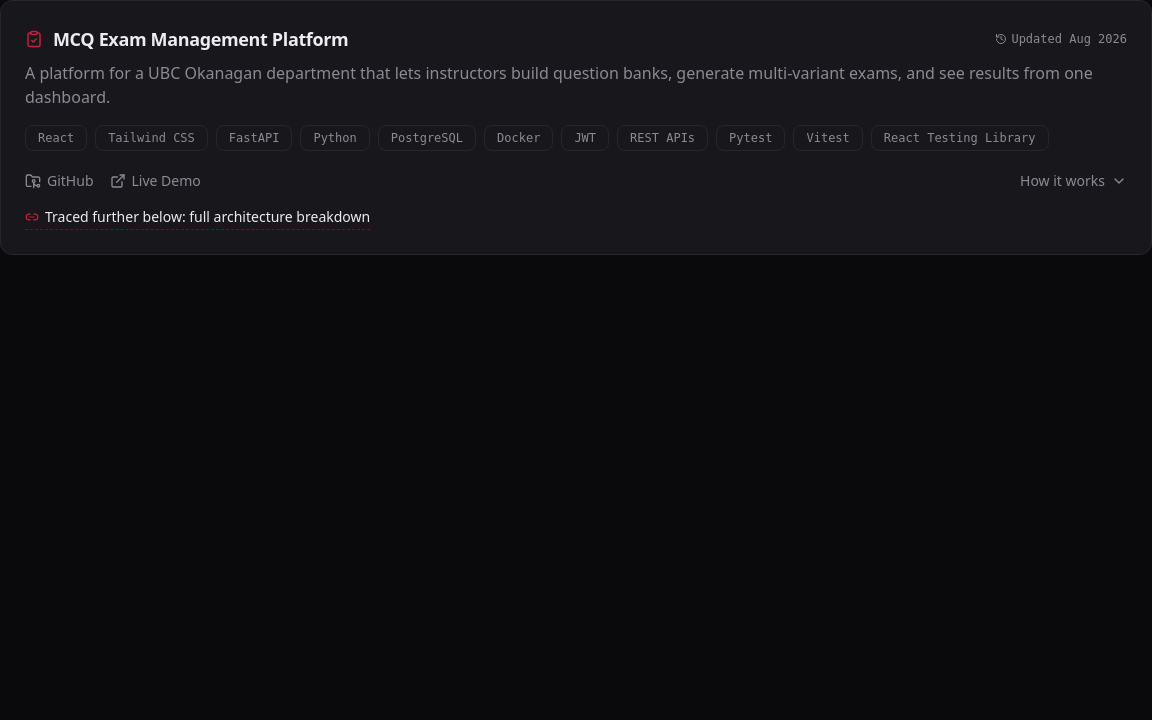
ProjectCard › reveals problem/solution/architecture/decision/result on "How it works"
Step 1. Click the button "How it works" → {"x": 1074, "y": 181}, box [1020,171,1127,191]
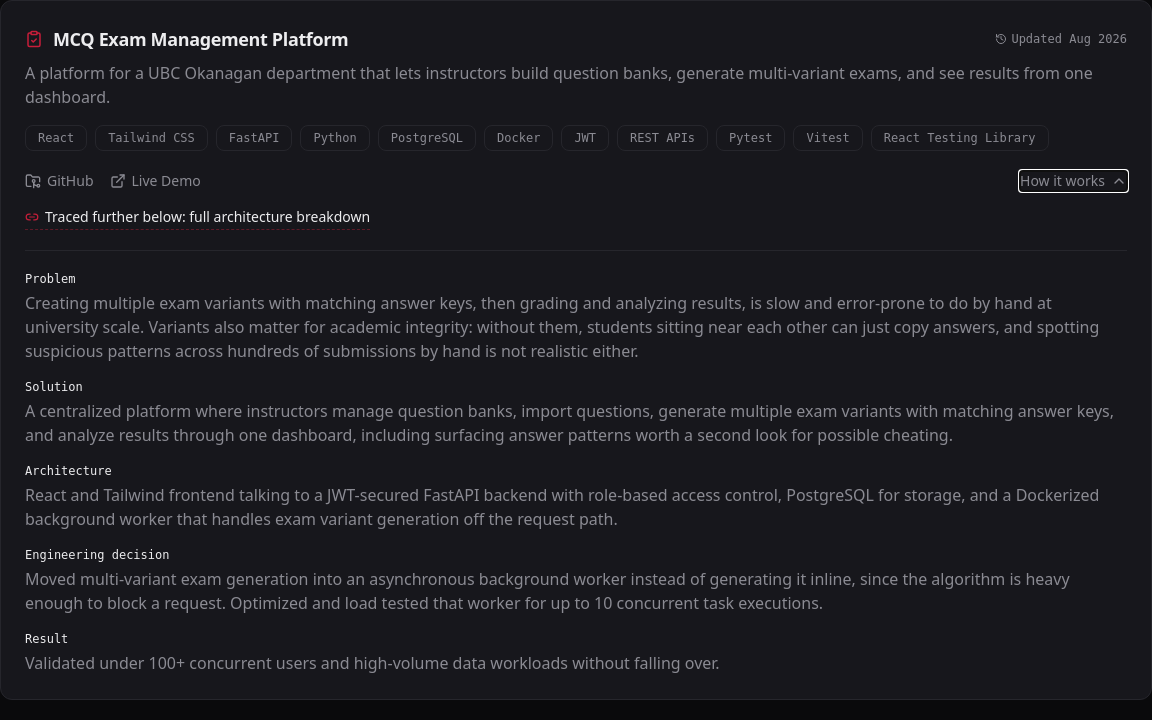
Result: the button "How it works" is expanded at [1020,171,1127,191]
Result: the text "Creating multiple exam variants with matching answer keys, then grading and analyzing results, is slow and error-prone t" is shown at [25,292,1099,362]
Result: the text "A centralized platform where instructors manage question banks, import questions, generate multiple exam variants with m" is shown at [25,400,1114,446]
